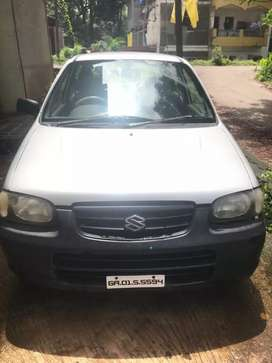GA01S5594: (106, 274, 164, 287)
